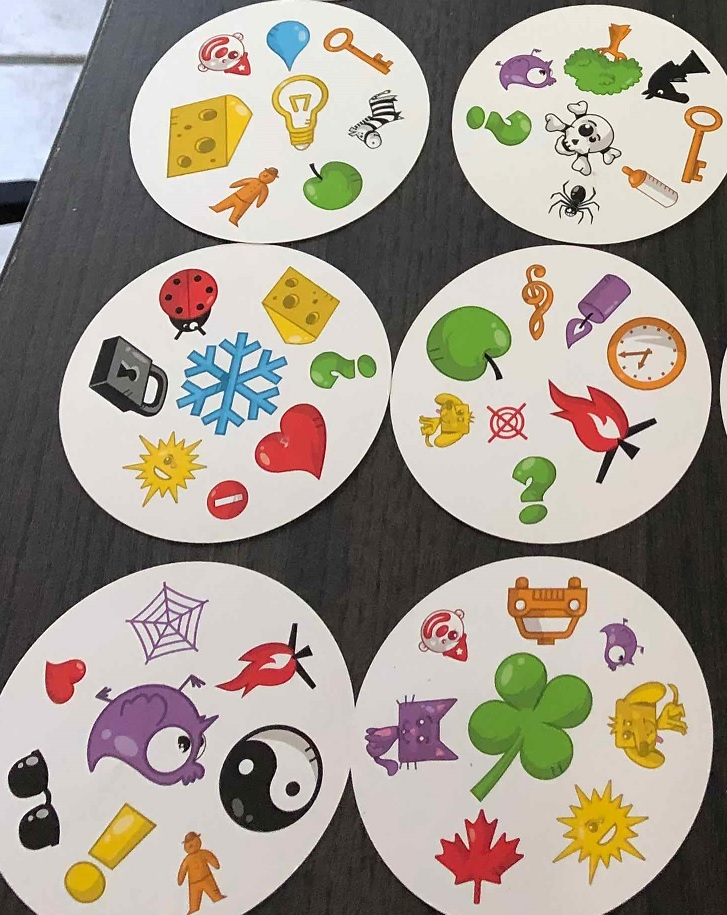ampoule: (265, 71, 335, 151)
araignee: (538, 183, 601, 232)
arbre: (558, 14, 644, 98), (83, 414, 171, 493)
biberon: (617, 160, 682, 213)
bonhomme: (205, 163, 282, 230), (171, 829, 231, 914)
bougie: (564, 272, 636, 354)
cadenas: (85, 333, 171, 419)
chat: (363, 692, 459, 779)
cheval: (640, 45, 715, 103)
chien: (605, 678, 691, 770), (415, 389, 480, 451)
cible: (483, 399, 530, 447)
cle: (675, 104, 725, 187), (320, 24, 394, 77)
clown: (408, 599, 473, 669), (193, 31, 259, 84)
coccinelle: (146, 264, 225, 337)
coeur: (252, 402, 329, 485), (35, 651, 91, 710)
feu: (540, 376, 655, 472), (217, 620, 319, 699)
feuille: (426, 811, 526, 909)
flocon: (174, 326, 289, 438)
fromage: (161, 94, 251, 179), (259, 265, 343, 349)
goutte: (264, 21, 313, 69)
horloge: (607, 314, 686, 392)
lunette: (2, 741, 65, 856)
note: (520, 259, 556, 344)
oiseau: (79, 677, 221, 794), (484, 43, 556, 101), (593, 614, 649, 674)
point_exclamation: (63, 795, 163, 911)
point_interrogation: (296, 353, 380, 401), (512, 452, 559, 525), (461, 103, 534, 148)
pomme: (419, 305, 515, 388), (299, 153, 368, 211)
sens_interdit: (201, 474, 249, 523)
soleil: (550, 778, 648, 886), (121, 429, 208, 507)
tete_mort: (543, 97, 621, 176)
toile: (120, 576, 209, 660)
trefle: (457, 648, 595, 806)
voiture: (503, 568, 591, 647)
ying_yang: (219, 719, 324, 833)
zebre: (345, 91, 403, 148)
